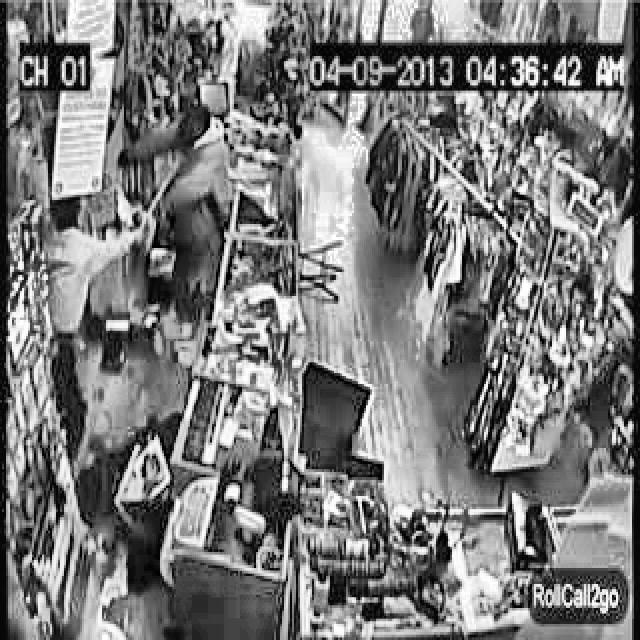robbery: (49, 104, 230, 335)
